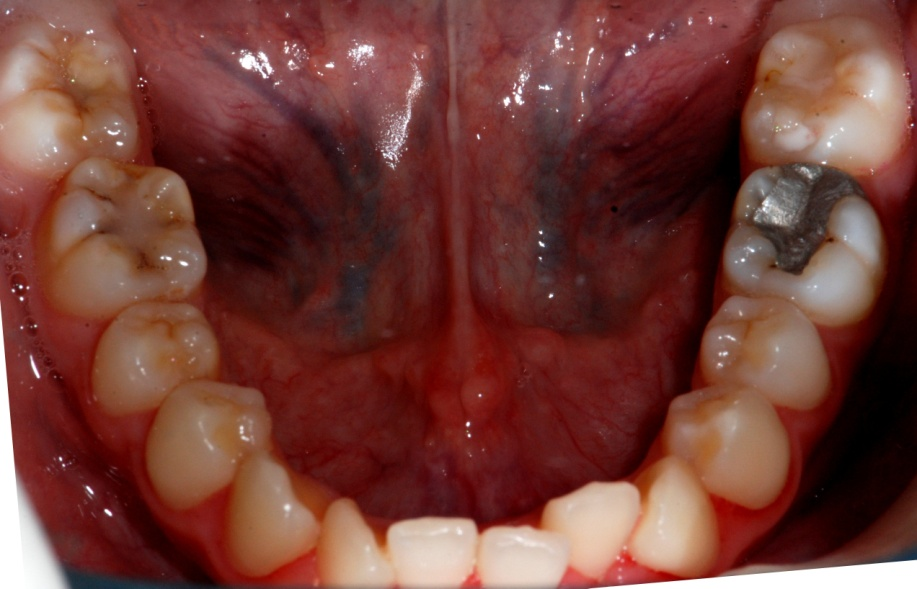LL1BC_healthy: (672, 387, 794, 493)
LL1M_decay: (731, 174, 877, 300)
LL2BC_healthy: (715, 301, 829, 409)
LL2M_decay: (753, 26, 906, 164)
LLCI_healthy: (486, 530, 571, 589)
LLC_healthy: (642, 473, 714, 566)
LLLI_healthy: (548, 474, 635, 579)
LR1BC_healthy: (149, 383, 264, 498)
LR1M_decay: (45, 164, 207, 302)
LR2BC_healthy: (110, 305, 212, 400)
LR2M_decay: (5, 42, 143, 170)
LRCI_healthy: (393, 512, 478, 589)
LRC_healthy: (229, 455, 318, 564)
LRLI_healthy: (309, 495, 393, 589)
